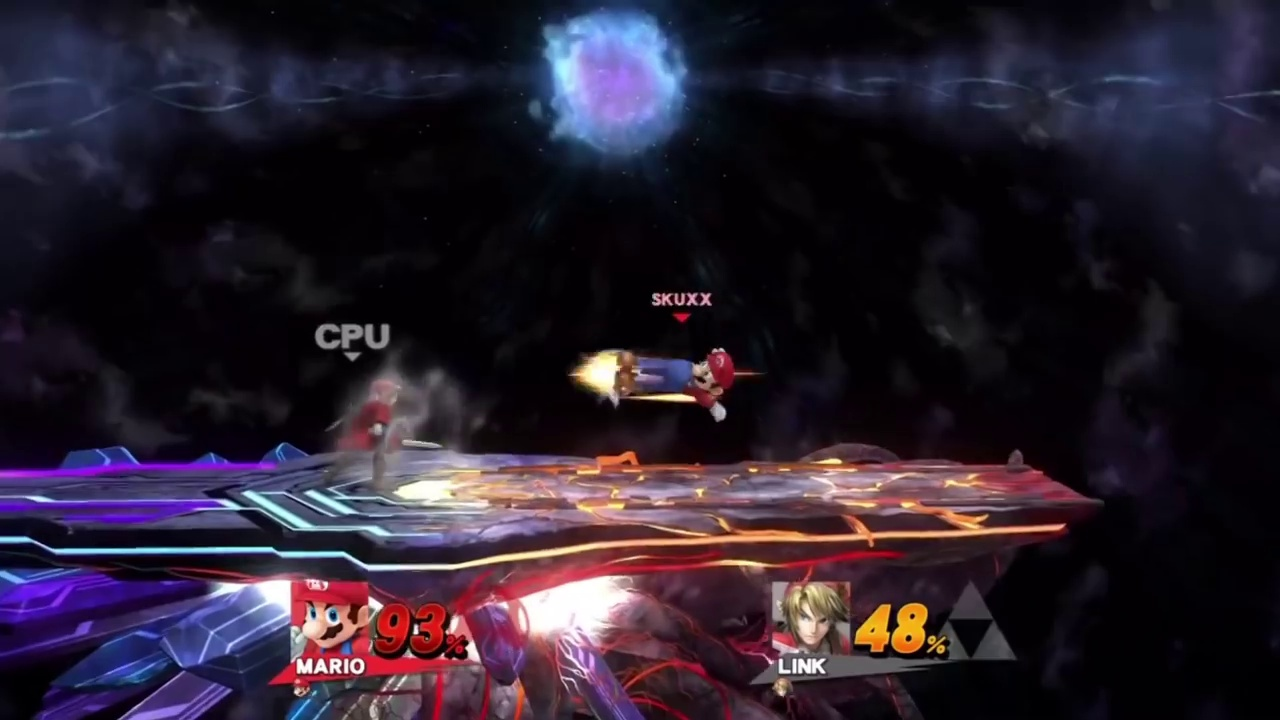Mario: (611, 350, 734, 426)
